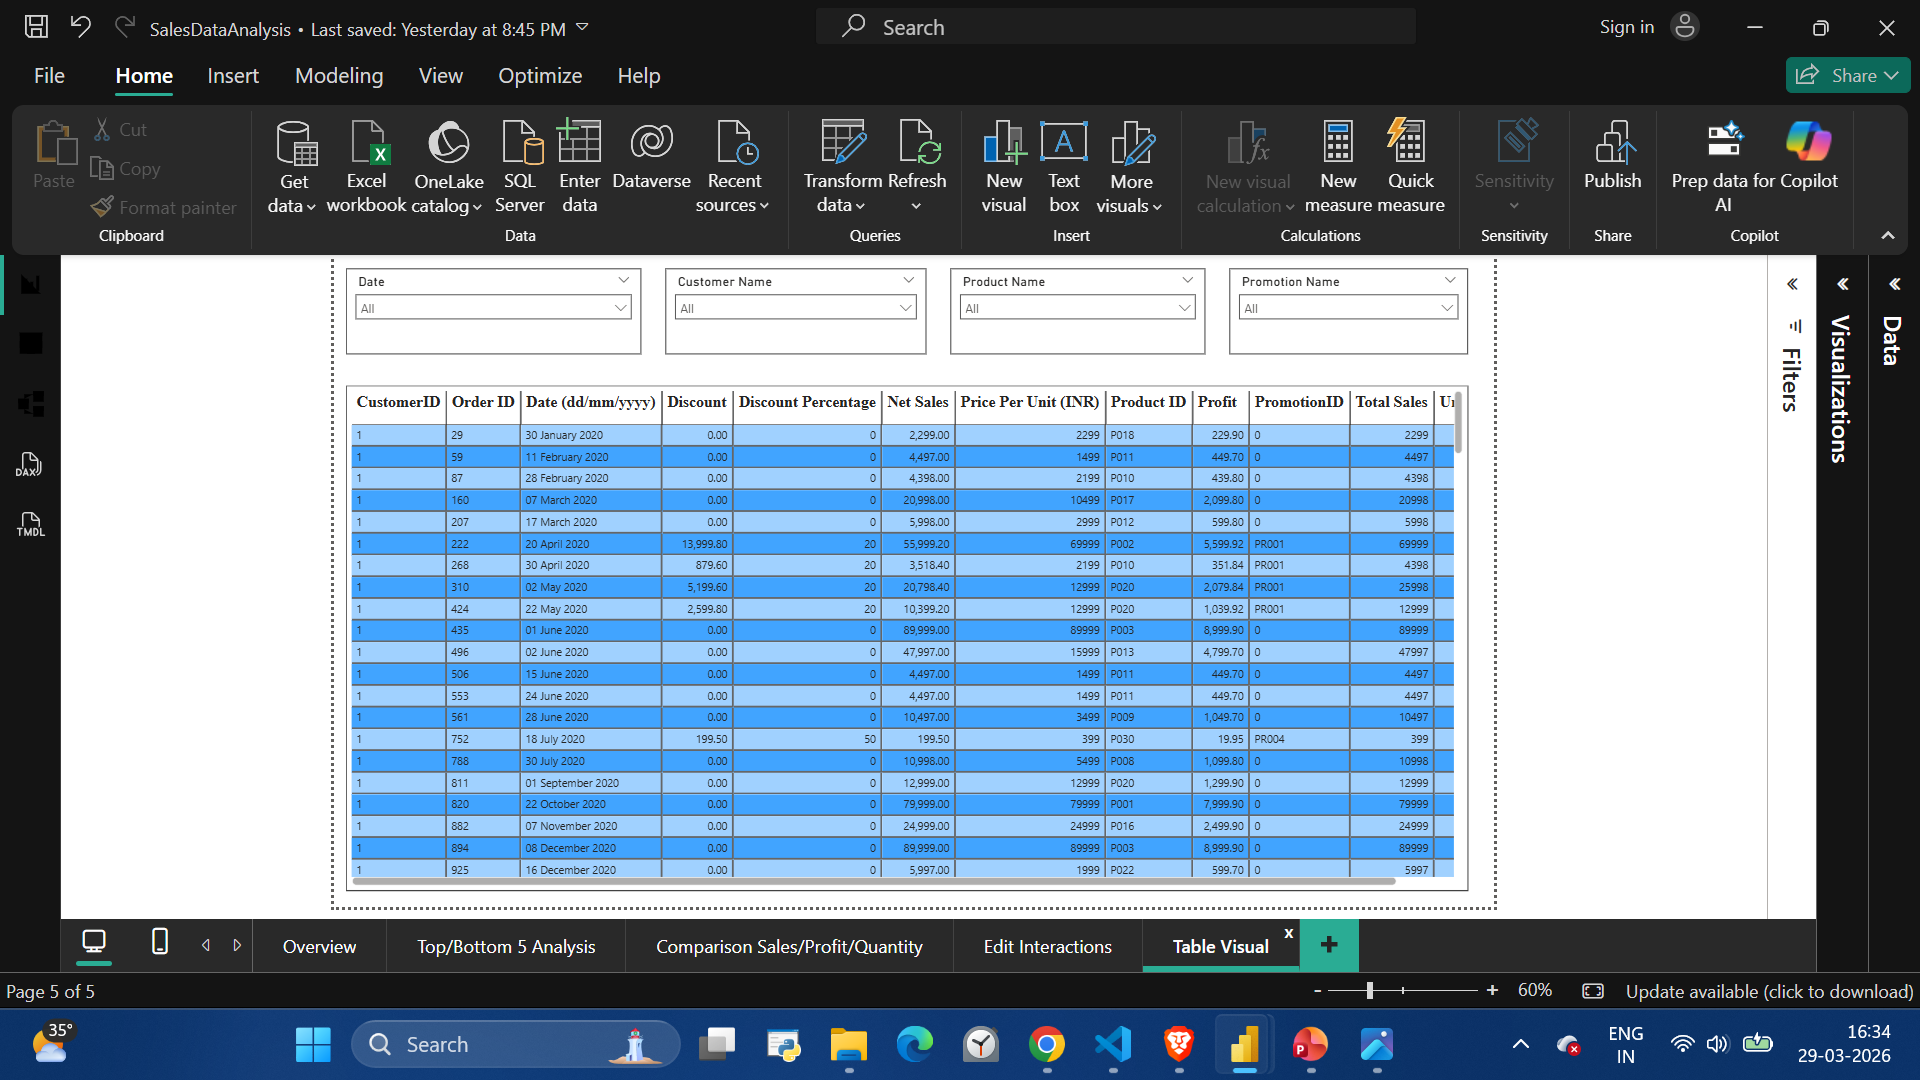

This screenshot's page, from the dashboard's own definition file:
{"tool":"powerbi","page":{"name":"Table Visual","canvas":[1280,720],"ordinal":4},"visuals":[{"type":"tableEx","fields":{"Values":["Fact Table.CustomerID","Fact Table.Order ID","Fact Table.Date (dd/mm/yyyy)","Fact Table.Discount ","Fact Table.Discount Percentage","Fact Table.Net Sales","Fact Table.Price Per Unit (INR)","Fact Table.Product ID","Fact Table.Profit","Fact Table.PromotionID","Fact Table.Total Sales      ","Fact Table.Units Sold"]},"box":[13.3,144.1,1239,558.2],"z":0},{"type":"slicer","fields":{"Values":["Date Table 1.Date"]},"box":[13.3,14.9,326.3,94.4],"z":1000},{"type":"slicer","fields":{"Values":["Dim Customers.Customer Name"]},"box":[366.1,14.9,288.2,94.4],"z":2000},{"type":"slicer","fields":{"Values":["Dim Product.Product Name"]},"box":[680.8,14.9,281.6,94.4],"z":3000},{"type":"slicer","fields":{"Values":["Dim Promotion.Promotion Name"]},"box":[988.9,14.9,263.4,94.4],"z":4000}]}

Visuals, with their boxes on the page's 1280x720 design canvas (x1, y1, x2, y2). These are canvas units, not pixel positions in the 1920x1080 screenshot, which may show the page scaled, cropped or inside an application window:
tableEx - Fact Table.CustomerID x Fact Table.Order ID: box(13, 144, 1252, 702)
slicer - Date Table 1.Date: box(13, 15, 340, 109)
slicer - Dim Customers.Customer Name: box(366, 15, 654, 109)
slicer - Dim Product.Product Name: box(681, 15, 962, 109)
slicer - Dim Promotion.Promotion Name: box(989, 15, 1252, 109)
